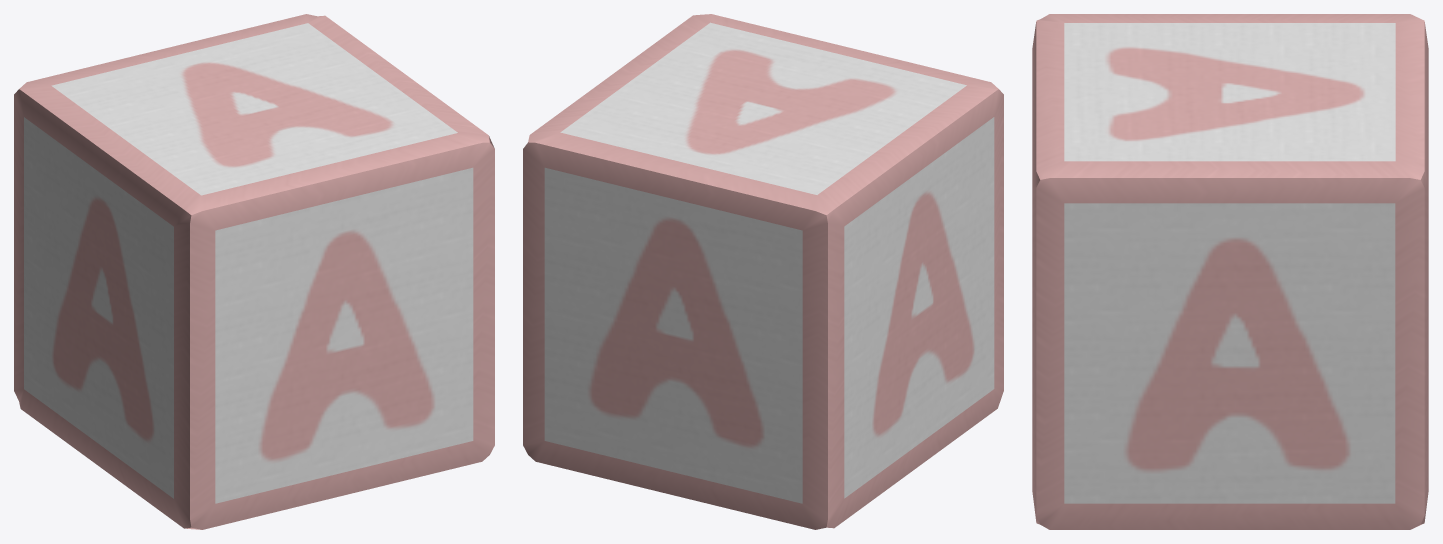
The model's file is BlockA.fbx.
3 views of the same model, side by side, from view 1: azimuth 30°, elevation 25°; view 2: azimuth 150°, elevation 25°; view 3: azimuth 270°, elevation 25° (orthographic). The views are drawn at different scales.
Visible parts, largest first — view 1: pCube1; view 2: pCube1; view 3: pCube1.
Part boxes in pixels (<box>): pCube1: <box>14,14,494,529</box>; pCube1: <box>523,14,1003,529</box>; pCube1: <box>1032,14,1428,529</box>.
Size of the model in its own units: 9 by 9 by 9.
